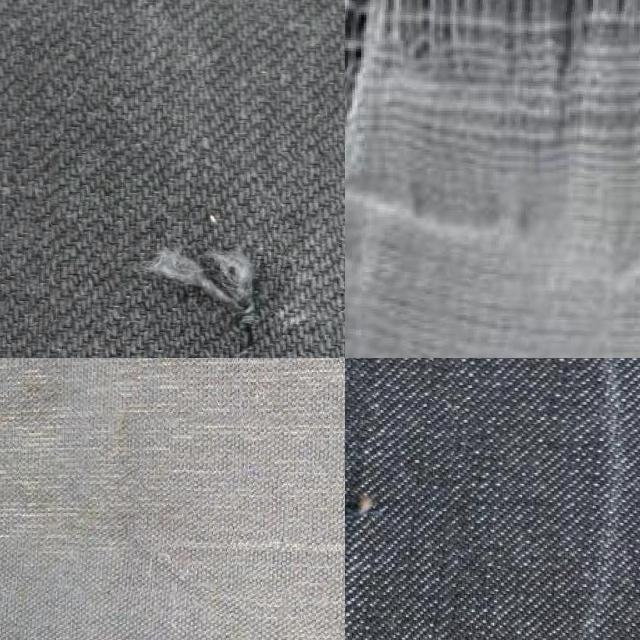Thread_other: (345, 0, 640, 358), (0, 414, 345, 640), (48, 150, 345, 358), (345, 358, 454, 640)
